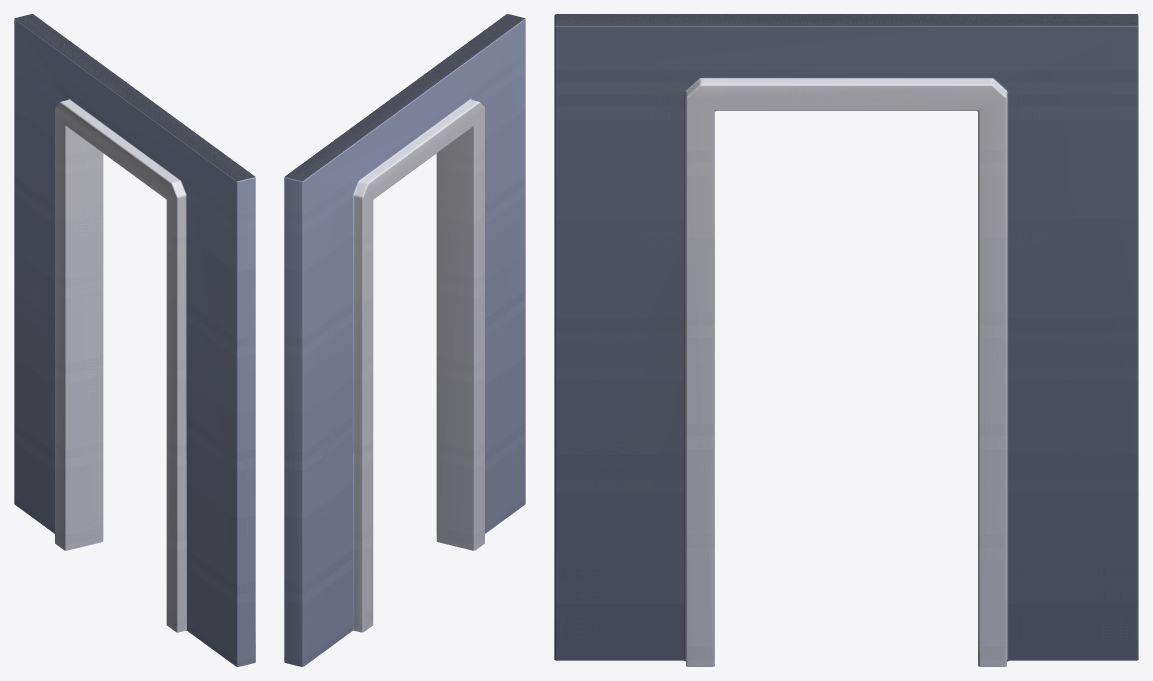
Rendered from wall-doorway-square.glb.
3 renders of one model, left to right at view 1: azimuth 30°, elevation 25°; view 2: azimuth 150°, elevation 25°; view 3: azimuth 270°, elevation 25°, orthographic. The views are drawn at different scales.
Parts seen in each view (by area): view 1: wall-doorway-square; view 2: wall-doorway-square; view 3: wall-doorway-square.
Part boxes in pixels (bbox=[...]): wall-doorway-square: bbox=[14, 14, 255, 666]; wall-doorway-square: bbox=[284, 14, 525, 666]; wall-doorway-square: bbox=[554, 14, 1138, 666].
Bounding box in the file's own units: 0.2 × 2.4 × 2.
1 material, 1 textured.
